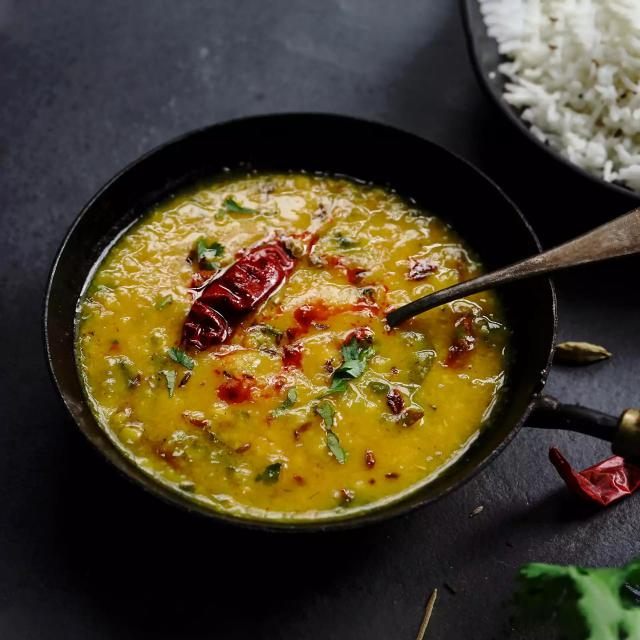dal: (77, 166, 515, 522)
rice: (475, 1, 640, 191)
